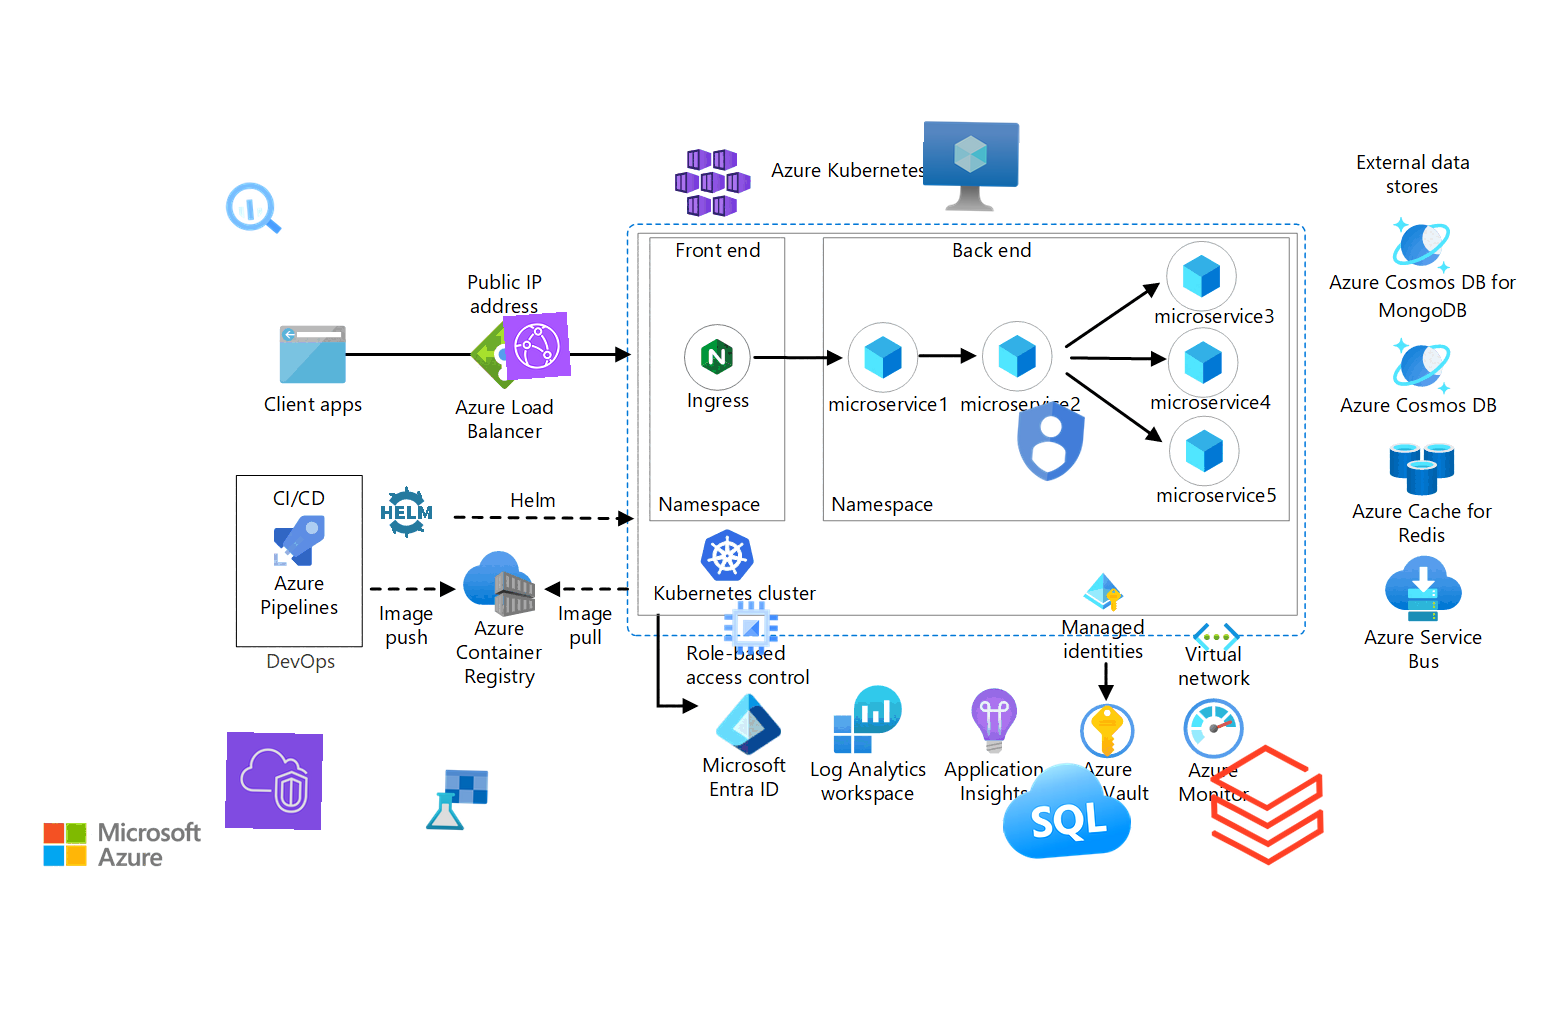aws_amazon_cloudfront: (502, 311, 572, 381)
aws_amazon_virtual_private_cloud: (225, 731, 324, 831)
azure_databricks: (1201, 739, 1332, 871)
azure_machine_learning_studio_workspaces: (424, 767, 490, 833)
azure_sql: (996, 742, 1137, 881)
azure_virtual_machine: (922, 120, 1020, 218)
gcp_bigquery: (218, 174, 288, 244)
gcp_compute_engine: (718, 595, 784, 661)
gcp_identity_and_access_management: (998, 389, 1102, 493)
